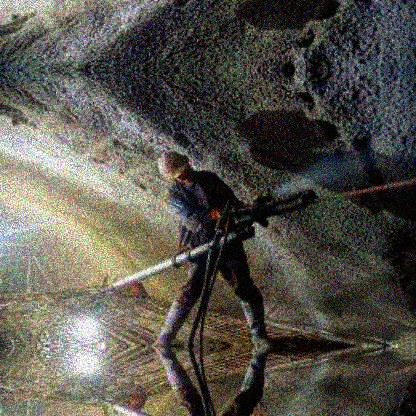helmet: (157, 151, 194, 184)
